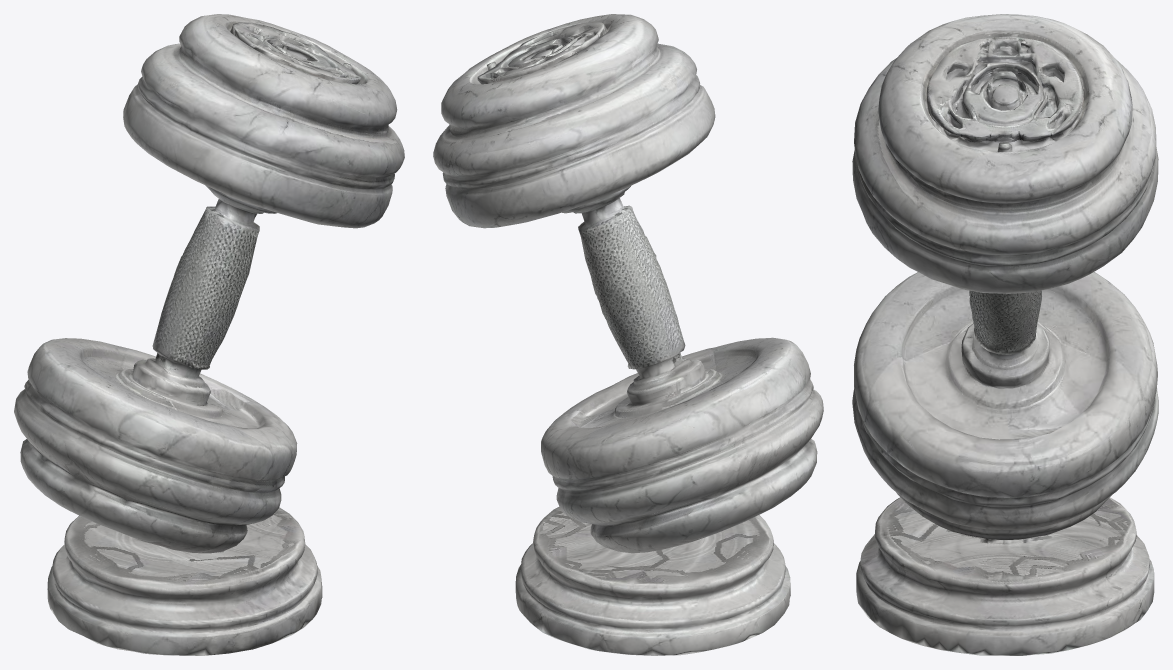
Rendered from draw_dumbbell_white.glb.
3 views of the same model, side by side, from view 1: azimuth 30°, elevation 25°; view 2: azimuth 150°, elevation 25°; view 3: azimuth 270°, elevation 25° (orthographic). The views are drawn at different scales.
Visible parts, largest first — view 1: texture_mapping; view 2: texture_mapping; view 3: texture_mapping.
Part boxes in pixels (<box>): texture_mapping: <box>14,14,404,655</box>; texture_mapping: <box>433,14,823,655</box>; texture_mapping: <box>852,14,1158,655</box>.
Bounding box in the file's own units: 0.6633 × 1 × 0.4662.
Materials: 1 (1 with a texture image).
